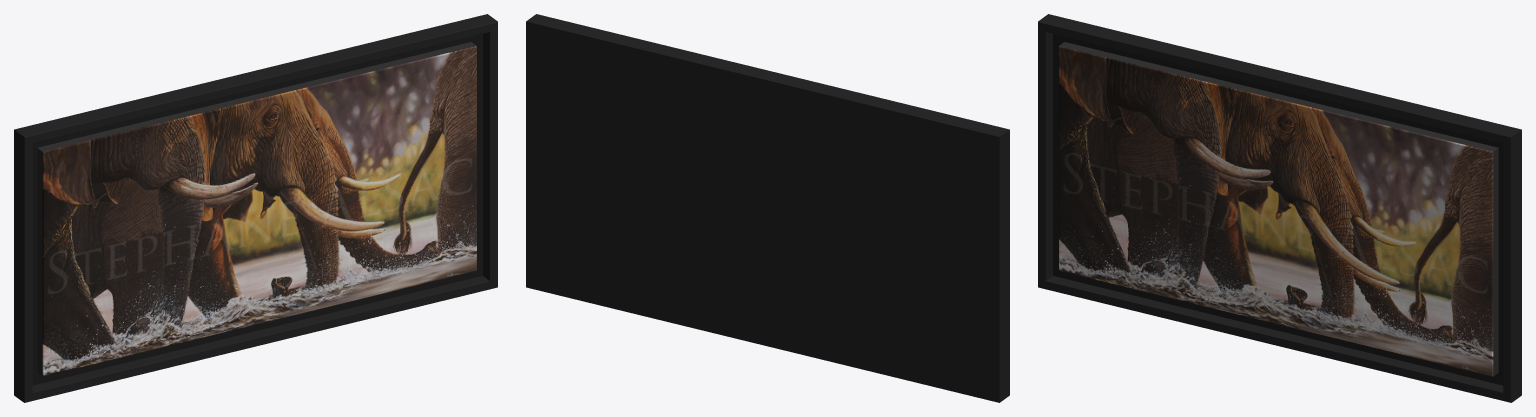
File: peinture-elephants-crossing-classique-3aa6d801.glb
3 renders of one model, left to right at view 1: azimuth 30°, elevation 25°; view 2: azimuth 150°, elevation 25°; view 3: azimuth 330°, elevation 25°, orthographic.
Visible parts, largest first — view 1: Painting; view 2: Painting; view 3: Painting.
Boxes of the visible parts, left/top/right/bottom form: Painting: left=14, top=14, right=497, bottom=402; Painting: left=526, top=14, right=1009, bottom=402; Painting: left=1038, top=14, right=1521, bottom=402.
Bounding box in the file's own units: 1.04 × 0.556 × 0.04.
Materials: 4 (2 with a texture image).
